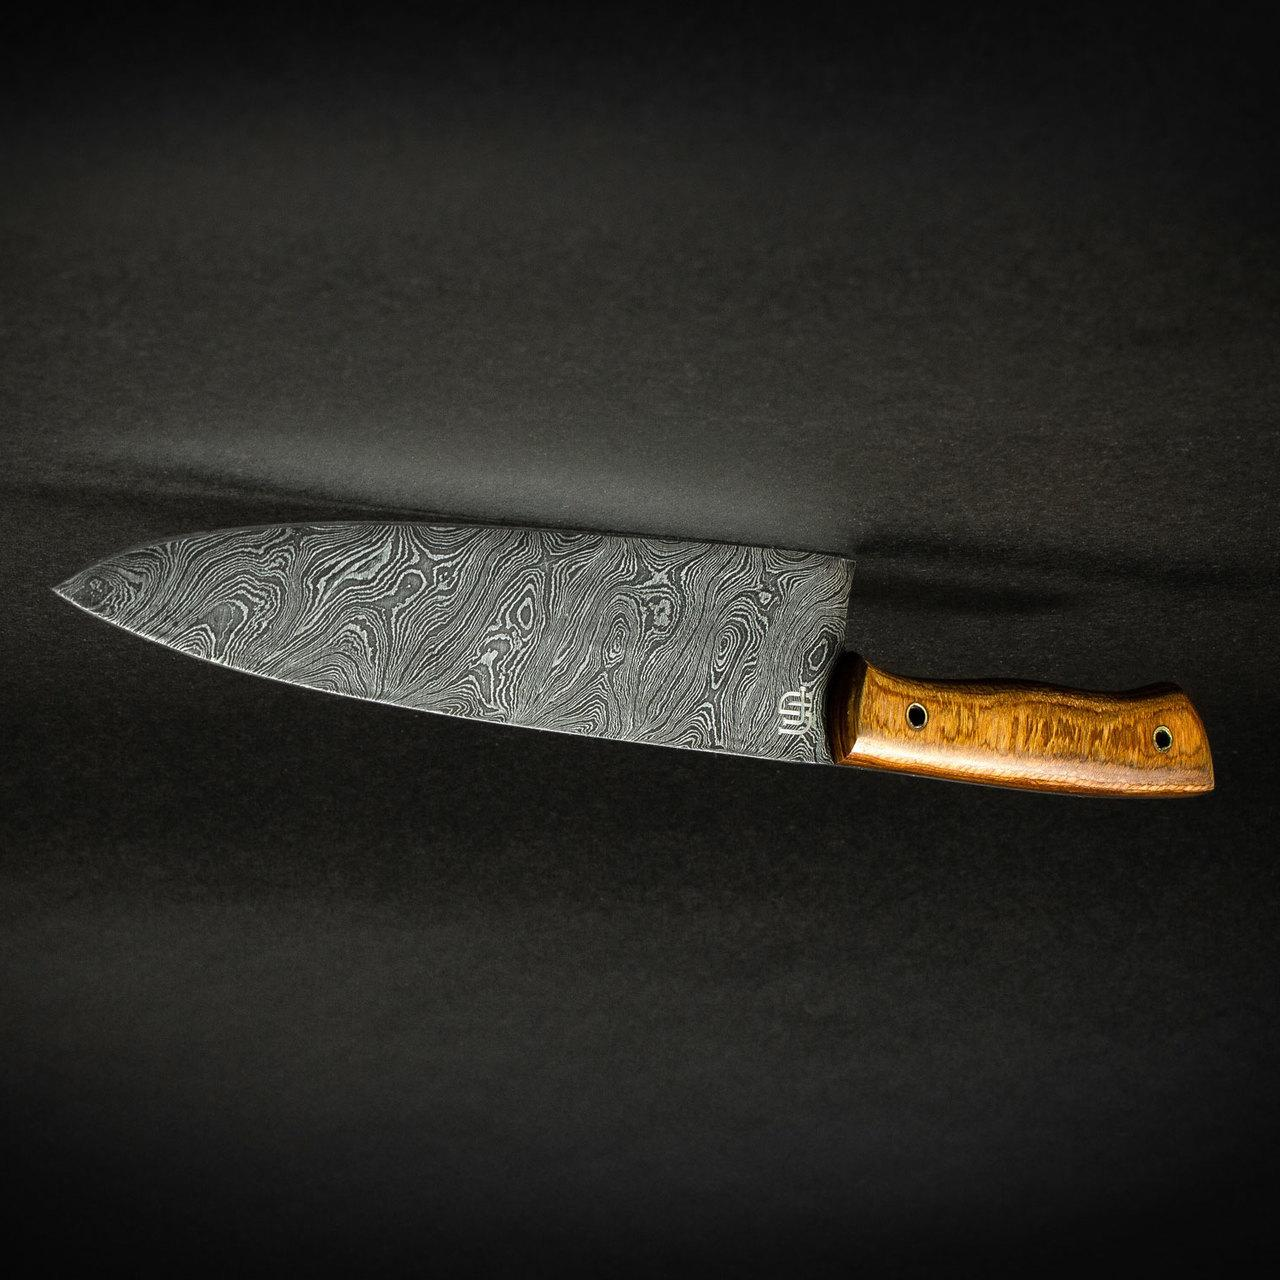knife: (48, 520, 1219, 799)
